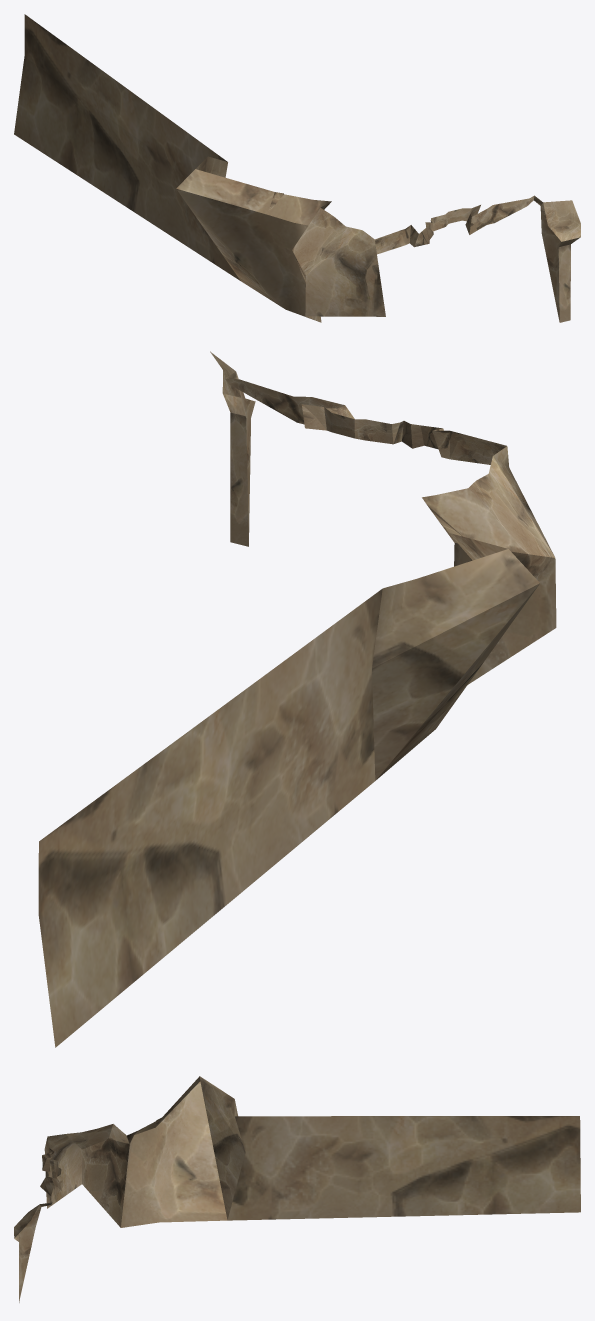
Rendered from Ground23_Terrain_LostTemple_001.FBX.
3 renders of one model, top to bottom at view 1: azimuth 30°, elevation 25°; view 2: azimuth 150°, elevation 25°; view 3: azimuth 270°, elevation 25°, orthographic. The views are drawn at different scales.
Parts seen in each view (by area): view 1: Ground23_Terrain_LostTemple_001; view 2: Ground23_Terrain_LostTemple_001; view 3: Ground23_Terrain_LostTemple_001.
Part boxes in pixels (x1,y1,x2,y2): Ground23_Terrain_LostTemple_001: (14, 14, 580, 322); Ground23_Terrain_LostTemple_001: (38, 351, 556, 1047); Ground23_Terrain_LostTemple_001: (14, 1076, 580, 1302).
Size of the model in its own units: 2799 by 1261 by 5457.
Materials: 1 (1 with a texture image).
